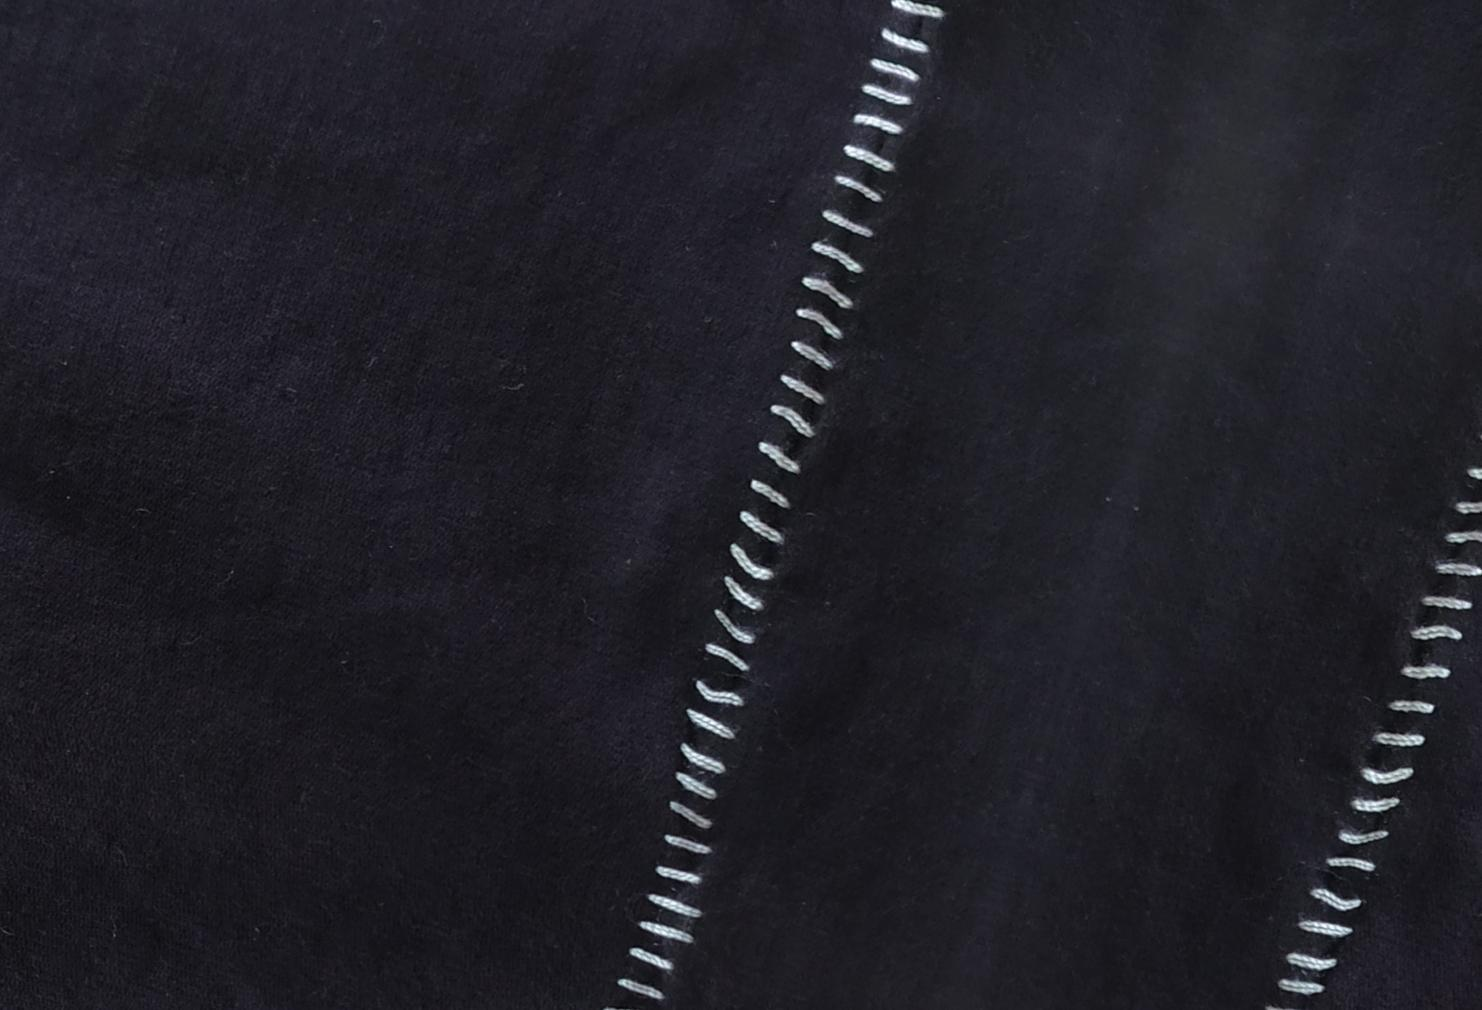slub: (606, 0, 953, 1000), (1276, 457, 1482, 1010)
